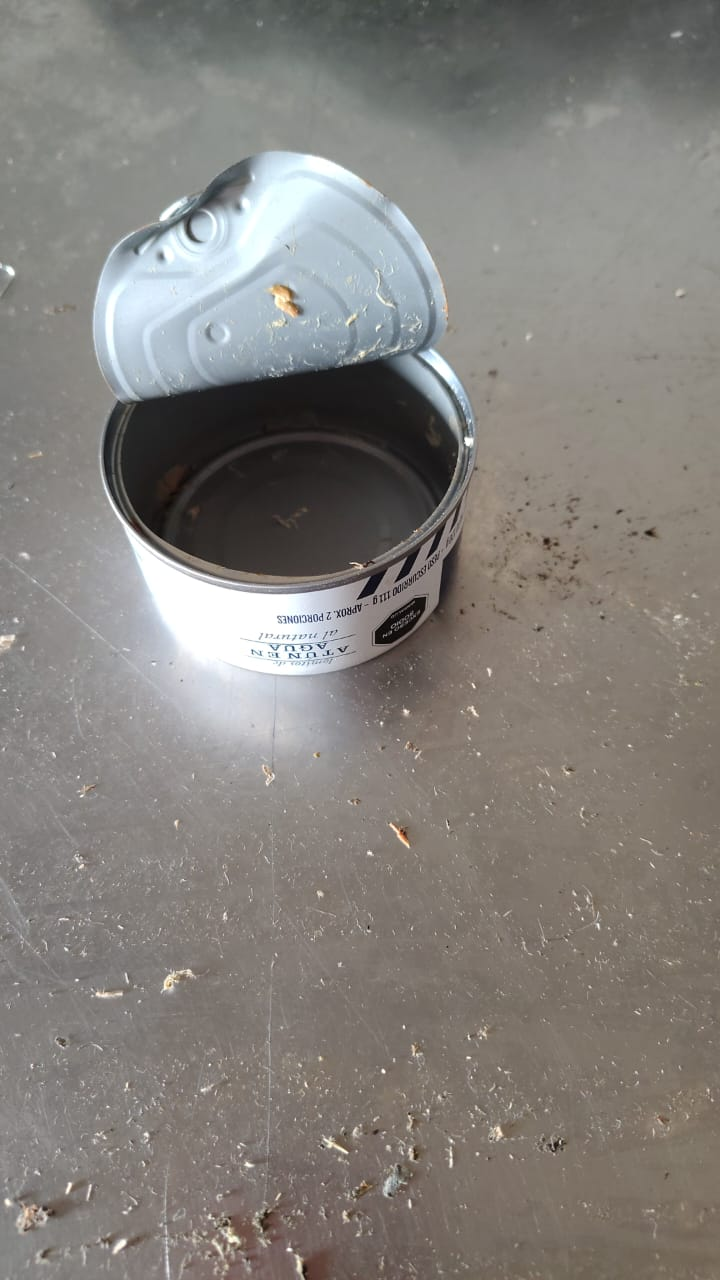Metal: (84, 152, 478, 675)
